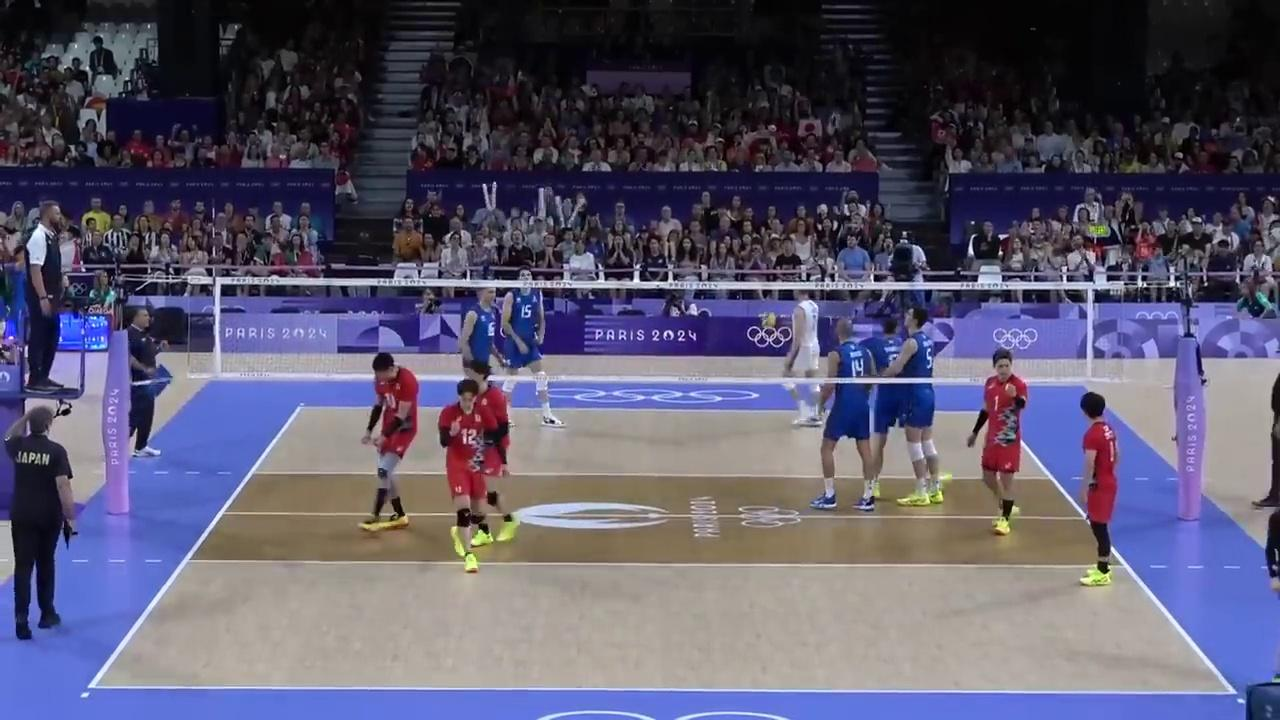ball: (761, 312, 775, 328)
